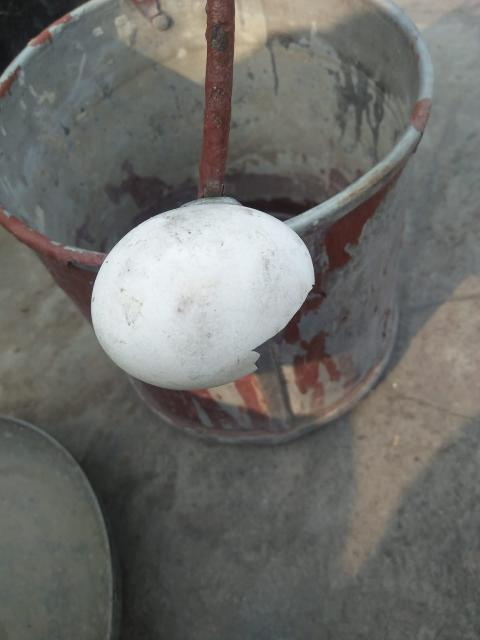Roto: (89, 202, 316, 391)
